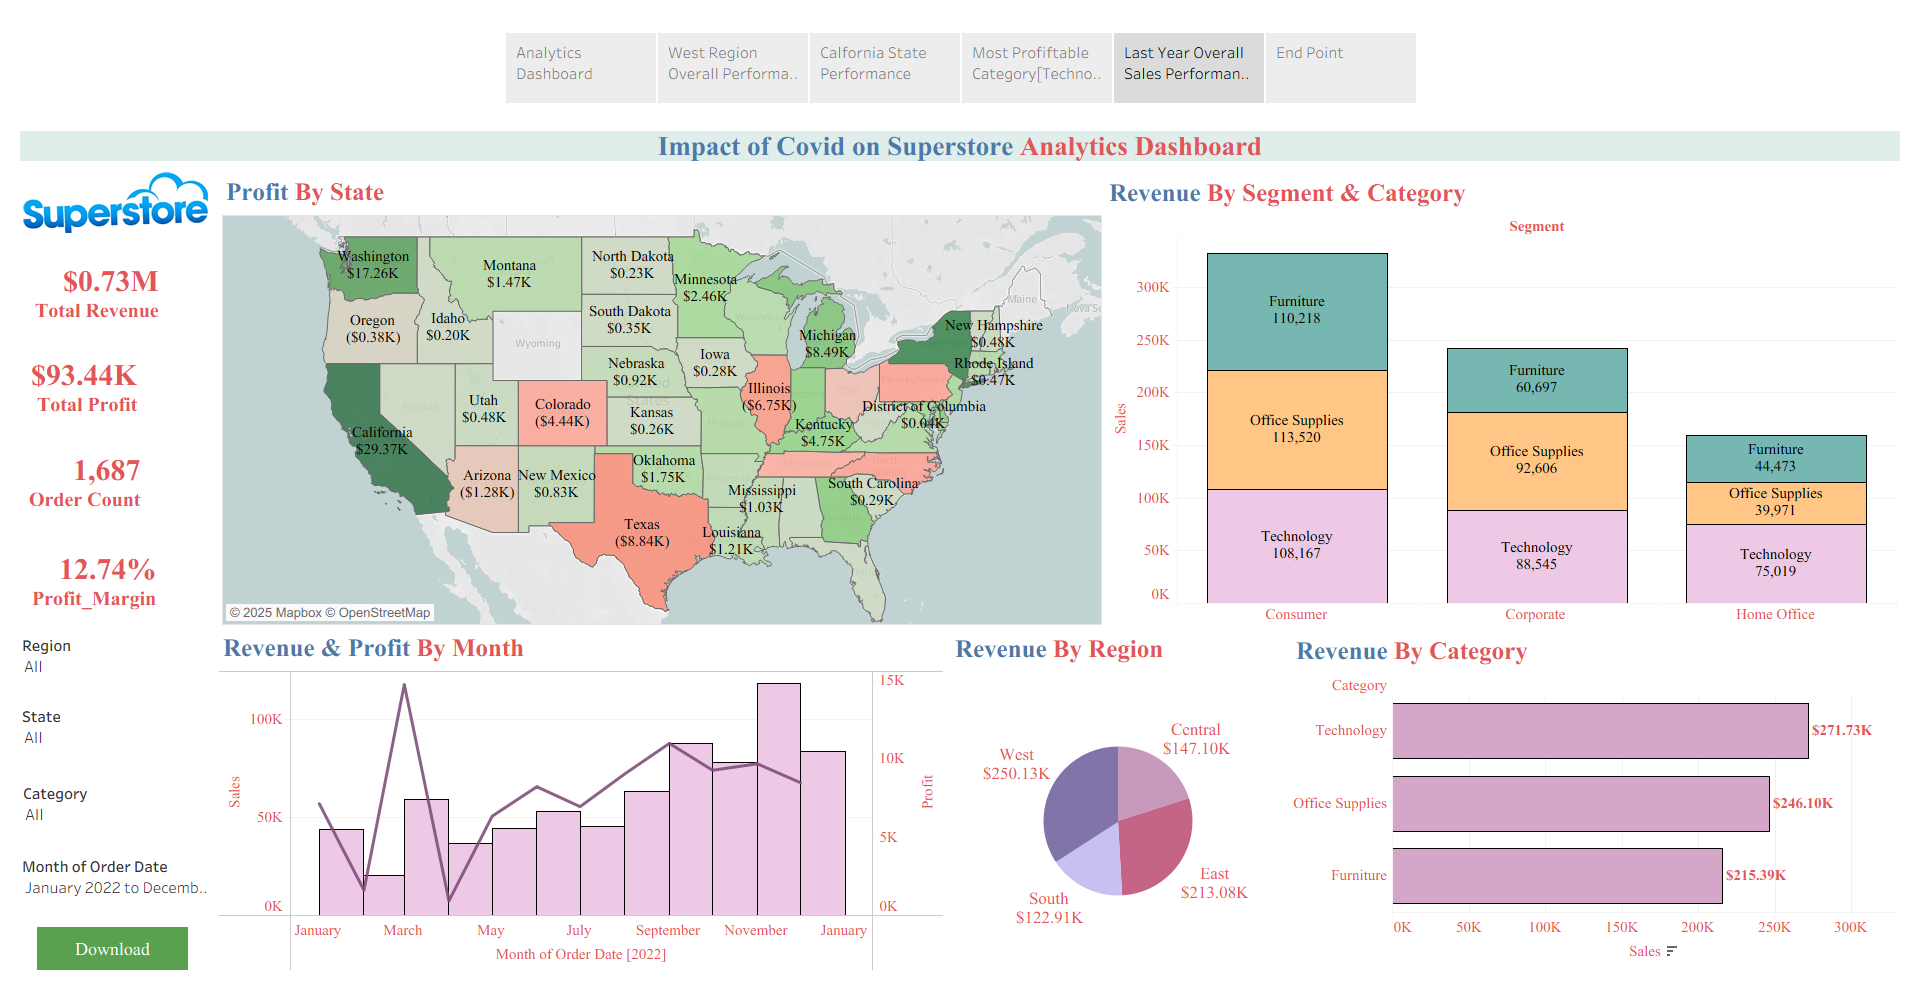

The dashboard page shown, as its layout file describes it:
{"tool":"tableau","page":{"name":"Dashboard","canvas":[1000,1000],"units":"permille","ordinal":0},"visuals":[{"type":"title","box":[4.8,10,990.3,47.4]},{"type":"image","param":"Image/superstore.jpg","box":[7.9,61.2,97.2,83.7]},{"type":"worksheet","title":"State_Profit","mark":"Automatic","box":[112.2,61.2,462.3,523.1]},{"type":"worksheet","title":"Segment_Revenue","mark":"Automatic","rows":["Sales"],"cols":["Segment"],"box":[576.3,62.4,415.2,520.6]},{"type":"worksheet","title":"RevenueCard","mark":"Automatic","box":[7.9,151.1,95.4,101.1]},{"type":"worksheet","title":"ProfitCard","mark":"Automatic","box":[7.2,259.7,95.4,102.4]},{"type":"worksheet","title":"OrderCountCard","mark":"Automatic","box":[7.2,369.5,94.8,96.1]},{"type":"worksheet","title":"ProfitMarginCard","mark":"Automatic","box":[6.6,484.4,94.2,99.9]},{"type":"worksheet","title":"Monthly_Revenue&Profit","mark":"Automatic","rows":["Sales","Profit"],"cols":["Order Date"],"box":[111,588,380.8,395.8]},{"type":"worksheet","title":"Region_Revenue","mark":"Pie","box":[495.5,589.3,175.6,393.3]},{"type":"worksheet","title":"Category_Revenue","mark":"Automatic","rows":["Category"],"cols":["Sales"],"box":[674.1,591.8,318,388.3]},{"type":"filter","title":"Region_Revenue","param":"[federated.1aaiccs02r5n1r194tcw40cy5zjr].[none:Region:nk]","box":[7.2,594.3,98.4,71.2]},{"type":"filter","title":"State_Profit","param":"[federated.1aaiccs02r5n1r194tcw40cy5zjr].[none:State:nk]","box":[7.2,676.6,98.4,73.7]},{"type":"filter","title":"Category_Revenue","param":"[federated.1aaiccs02r5n1r194tcw40cy5zjr].[none:Category:nk]","box":[7.9,765.3,97.8,72.4]},{"type":"filter","title":"Monthly_Revenue&Profit","param":"[federated.1aaiccs02r5n1r194tcw40cy5zjr].[tmn:Order Date:qk]","box":[7.2,850.2,99,71.2]},{"type":"dashboard-object","box":[15.1,932.6,79.7,49.9]}]}

Visuals, with their boxes on the dashboard's canvas, which has no fixed pixel size, in thousandths of its width and height (x1, y1, x2, y2). These are canvas units, not pixel positions in the 1920x993 screenshot, which may show the page scaled, cropped or inside an application window:
title: bbox(5, 10, 995, 57)
image: bbox(8, 61, 105, 145)
"State_Profit" worksheet: bbox(112, 61, 574, 584)
"Segment_Revenue" worksheet: bbox(576, 62, 992, 583)
"RevenueCard" worksheet: bbox(8, 151, 103, 252)
"ProfitCard" worksheet: bbox(7, 260, 103, 362)
"OrderCountCard" worksheet: bbox(7, 370, 102, 466)
"ProfitMarginCard" worksheet: bbox(7, 484, 101, 584)
"Monthly_Revenue&Profit" worksheet: bbox(111, 588, 492, 984)
"Region_Revenue" worksheet (Pie marks): bbox(496, 589, 671, 983)
"Category_Revenue" worksheet: bbox(674, 592, 992, 980)
"Region_Revenue" filter: bbox(7, 594, 106, 666)
"State_Profit" filter: bbox(7, 677, 106, 750)
"Category_Revenue" filter: bbox(8, 765, 106, 838)
"Monthly_Revenue&Profit" filter: bbox(7, 850, 106, 921)
dashboard-object: bbox(15, 933, 95, 982)
